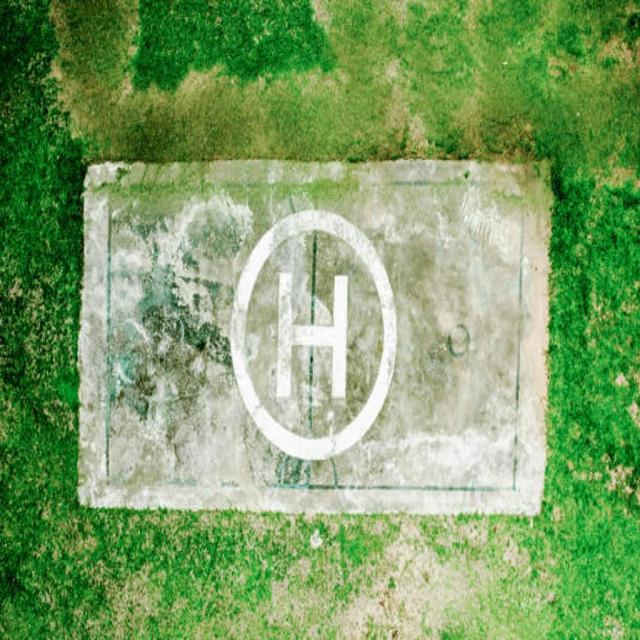helipad: (226, 207, 400, 461)
